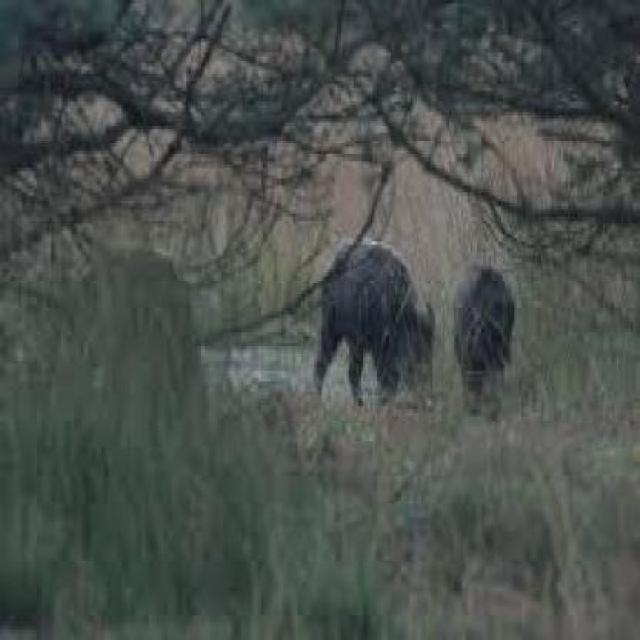wildboar: (310, 236, 438, 410), (450, 260, 518, 411)
